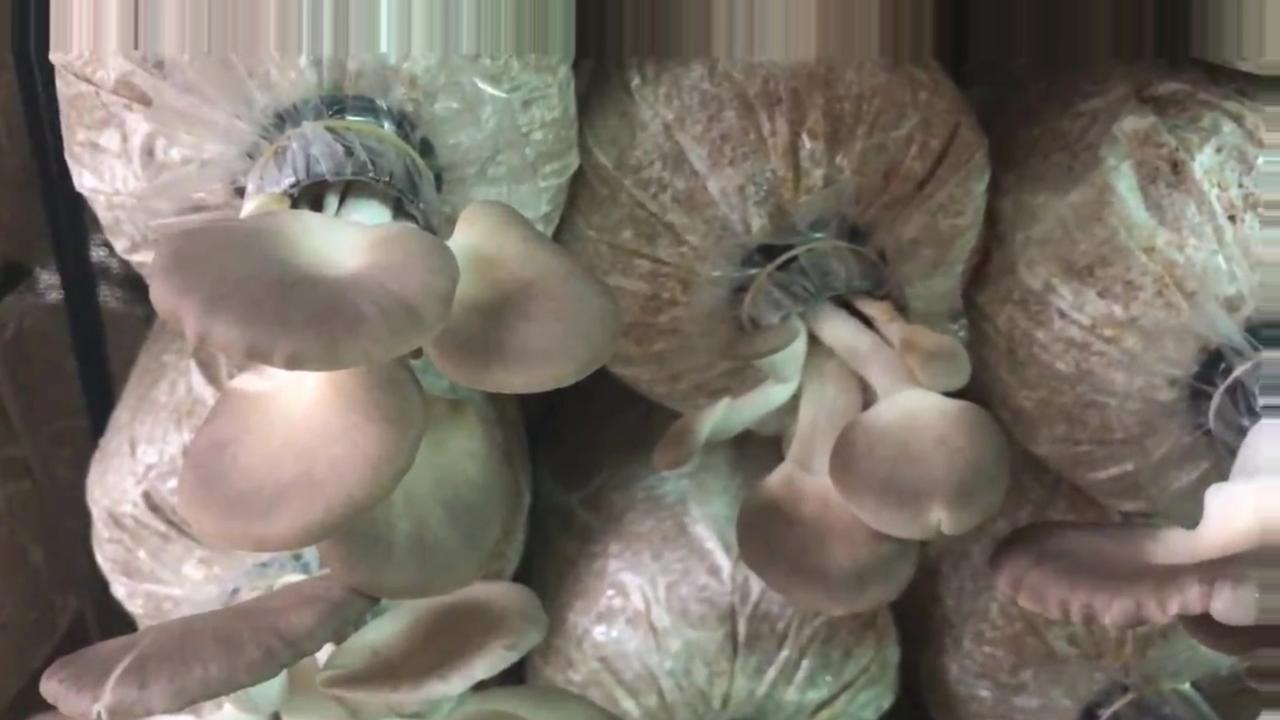nam: (142, 110, 620, 599), (650, 241, 1013, 621), (39, 588, 599, 720), (1020, 523, 1280, 621)
